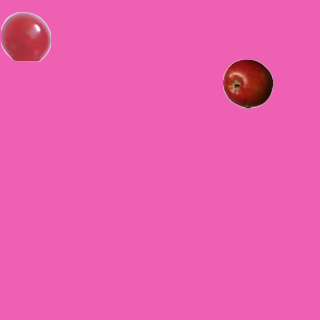Apple Braeburn: (222, 58, 272, 108)
Redcurrant: (0, 11, 50, 61)
